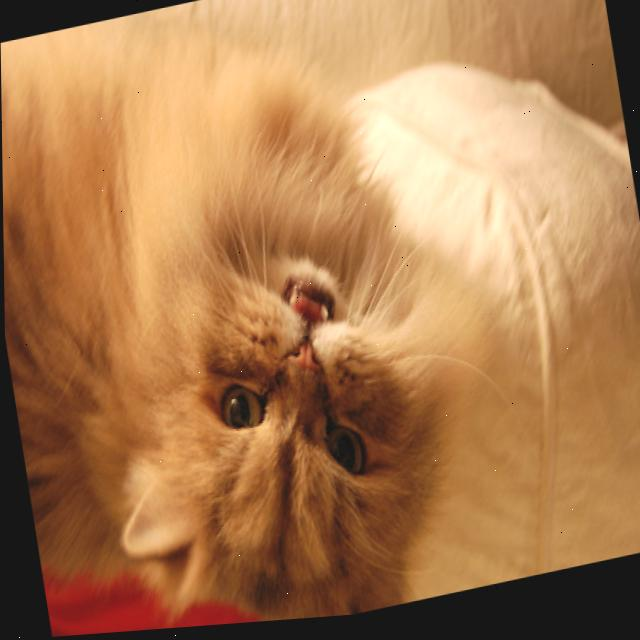Persian: (0, 0, 532, 640)
